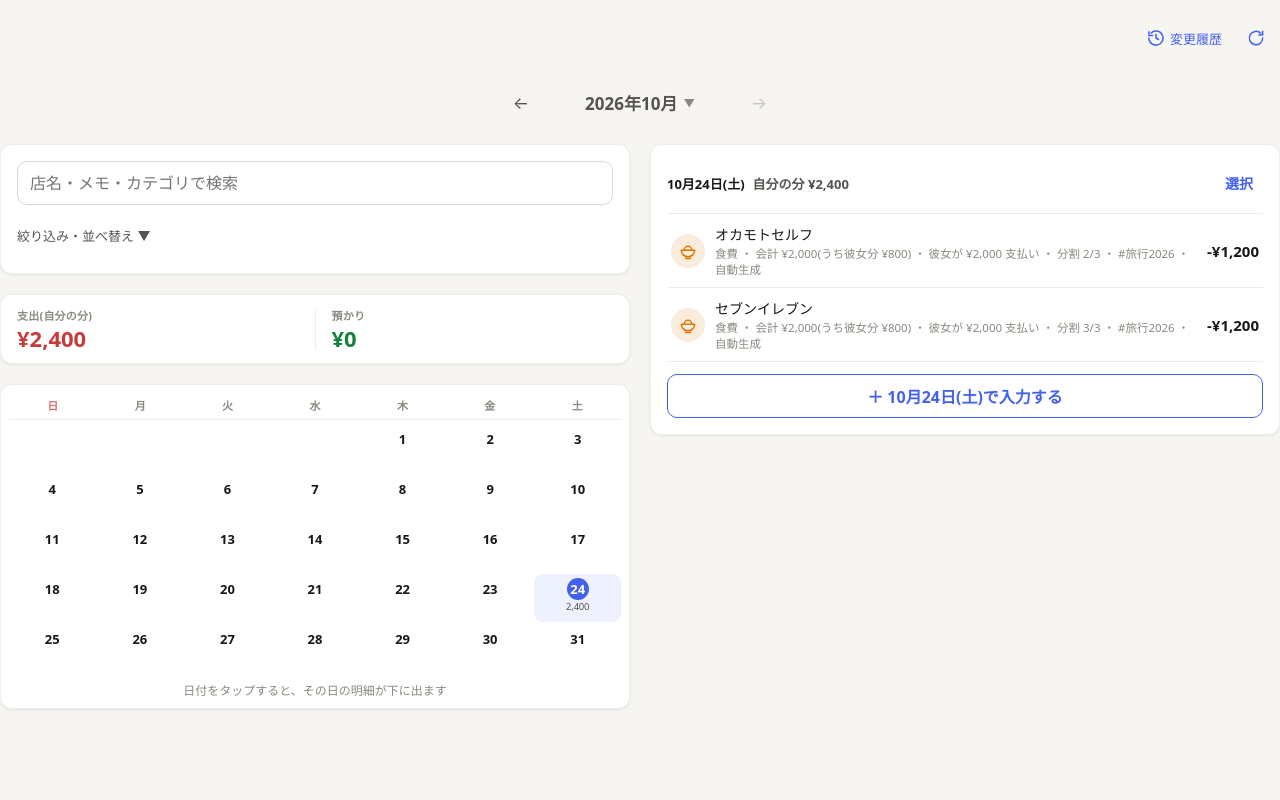
Scenario: お店で絞り込む導線 › 長押し →「このお店の履歴だけ見る」で、その店だけの一覧になる
Expected: the text "検索結果" is not shown
Press the mouse on the element "オカモトセルフ" at (965, 251), box x1=667 y1=214 x2=1263 y2=288
Wait 530 ms
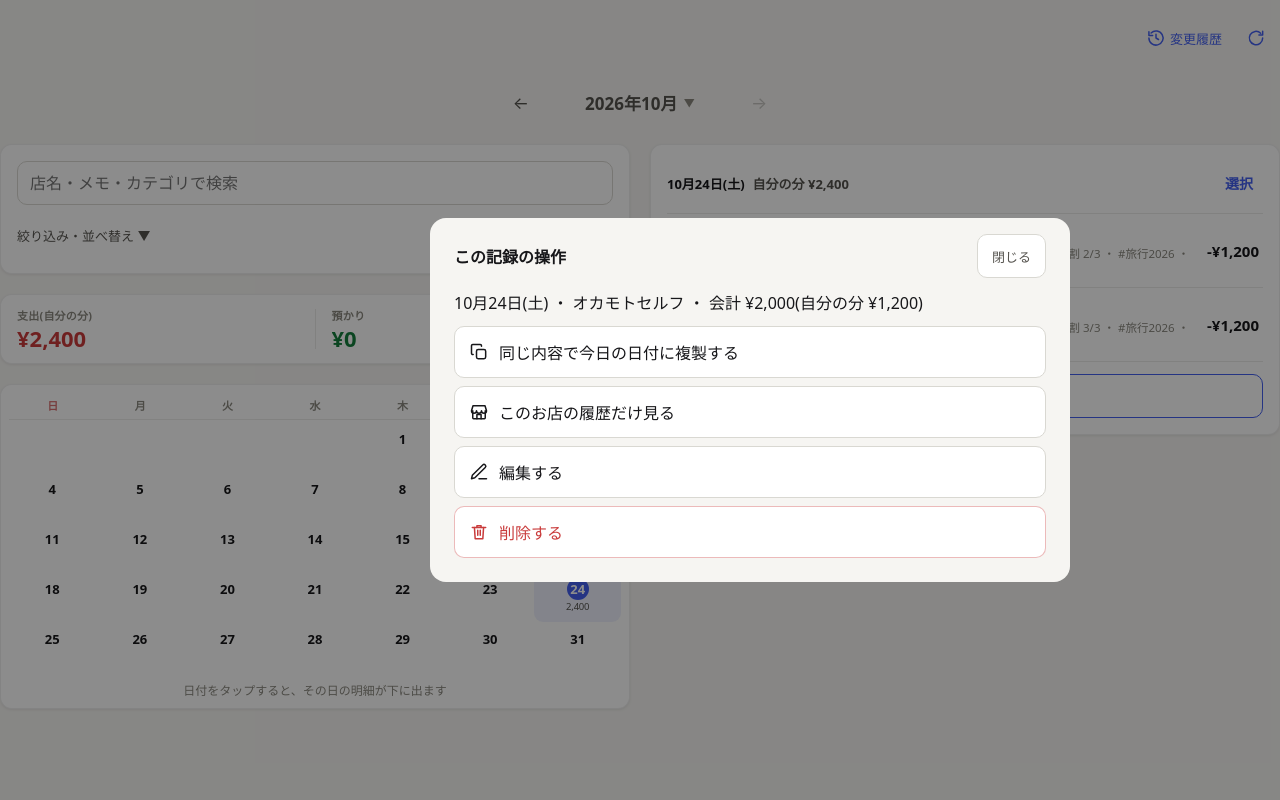
Click the button "このお店の履歴だけ見る". click: (587, 413)
box: x1=454 y1=386 x2=1046 y2=438
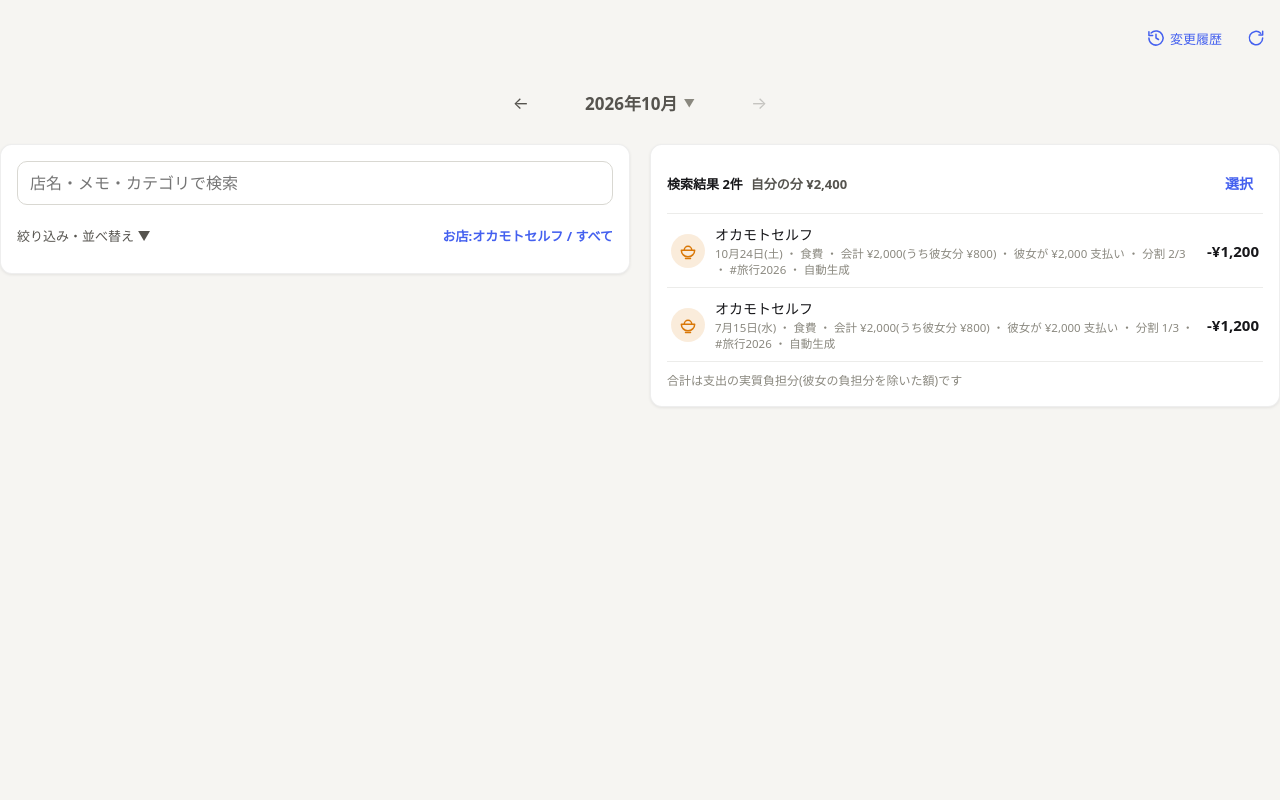
Now the text "検索結果 2件" is shown, box x1=667 y1=174 x2=743 y2=193
